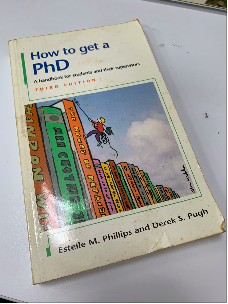Nonfood: (14, 15, 212, 281)
